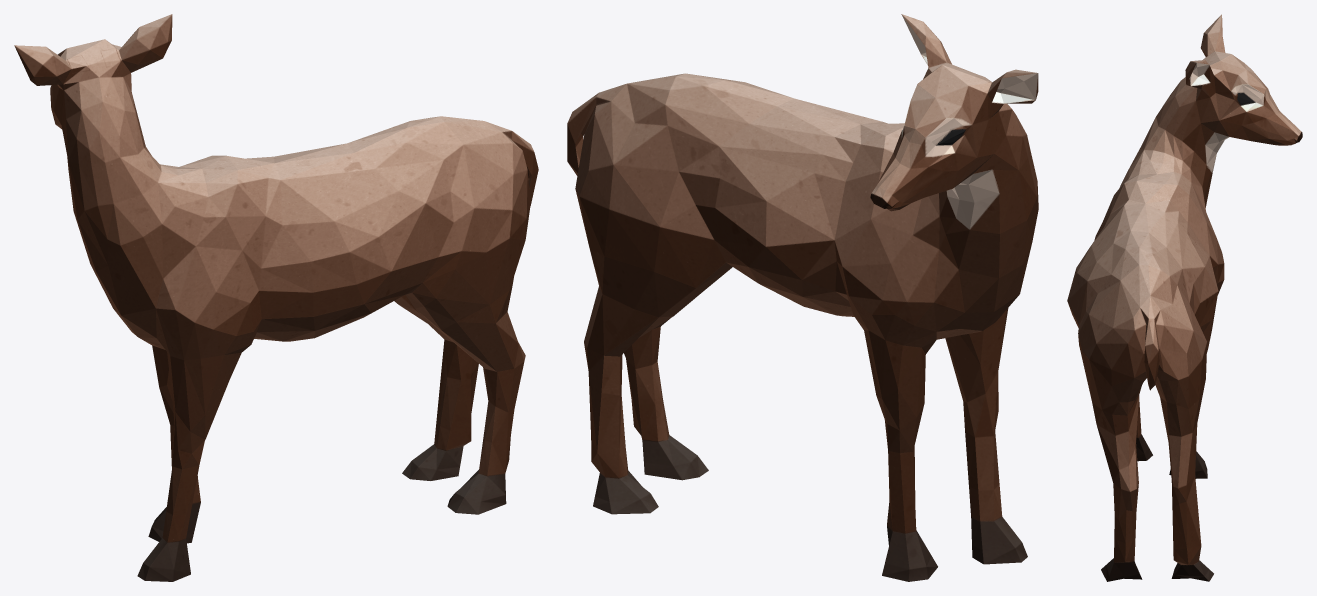
Rendered from reindeer.glb.
The picture shows the model from 3 angles, left to right: view 1: azimuth 30°, elevation 25°; view 2: azimuth 150°, elevation 25°; view 3: azimuth 270°, elevation 25°; orthographic projection. The views are drawn at different scales.
Visible parts, largest first — view 1: reindeer.1; view 2: reindeer.1; view 3: reindeer.1.
Part boxes in pixels (bbox=[...]): reindeer.1: bbox=[14, 14, 538, 581]; reindeer.1: bbox=[567, 14, 1038, 581]; reindeer.1: bbox=[1067, 14, 1302, 581].
Size of the model in its own units: 1.88 by 1.94 by 1.
1 material, 1 textured.
